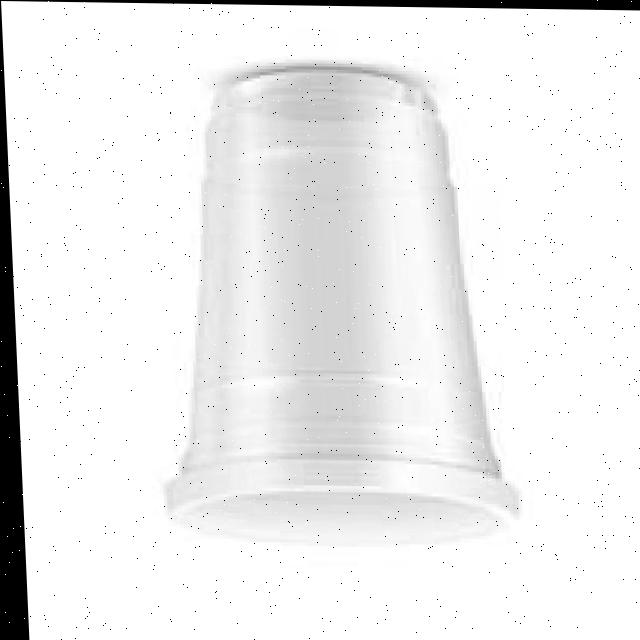cup: (163, 69, 511, 539)
